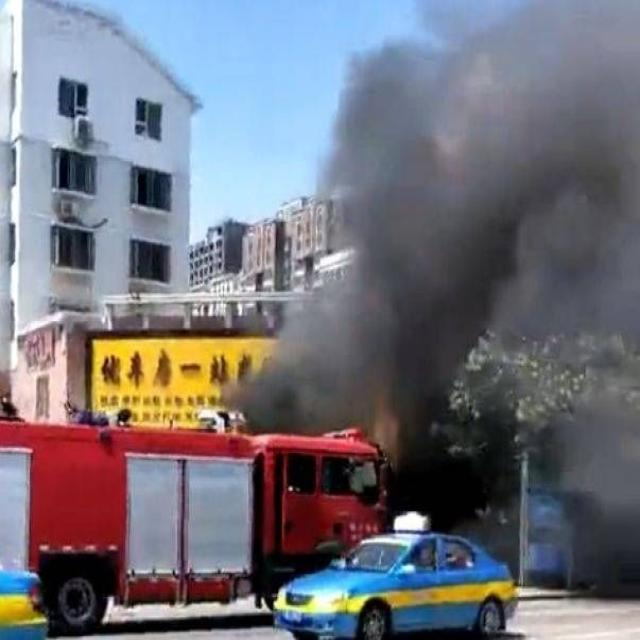Smoke: (219, 1, 640, 584)
